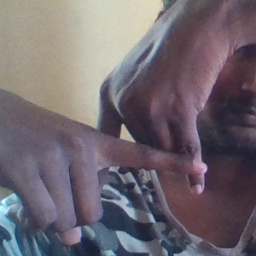H: (79, 97, 211, 218)
